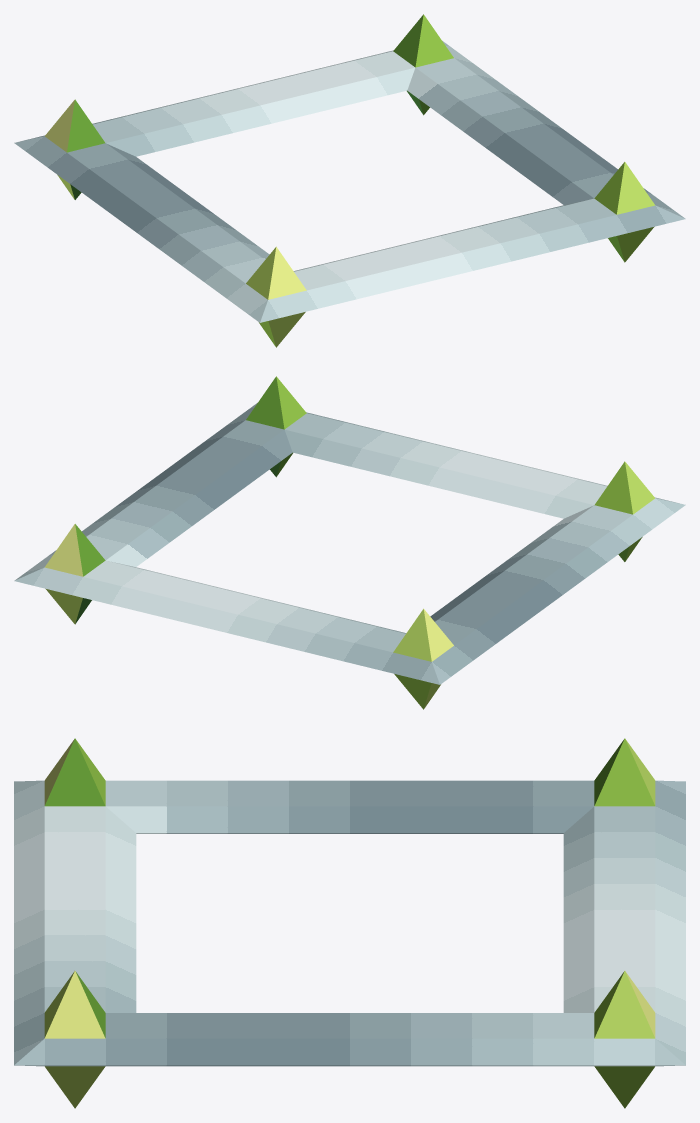
File: experience_exchanger_ring2.obj
3 views of the same model, one above another, from view 1: azimuth 30°, elevation 25°; view 2: azimuth 150°, elevation 25°; view 3: azimuth 270°, elevation 25° (orthographic). The views are drawn at different scales.
Visible parts, largest first — view 1: Plane.003; view 2: Plane.003; view 3: Plane.003.
Boxes of the visible parts, box(x1,y1,x2,y2) form: Plane.003: box(14, 14, 685, 347); Plane.003: box(14, 376, 685, 709); Plane.003: box(14, 738, 685, 1108).
Size of the model in its own units: 0.6875 by 0.1562 by 0.6875.
